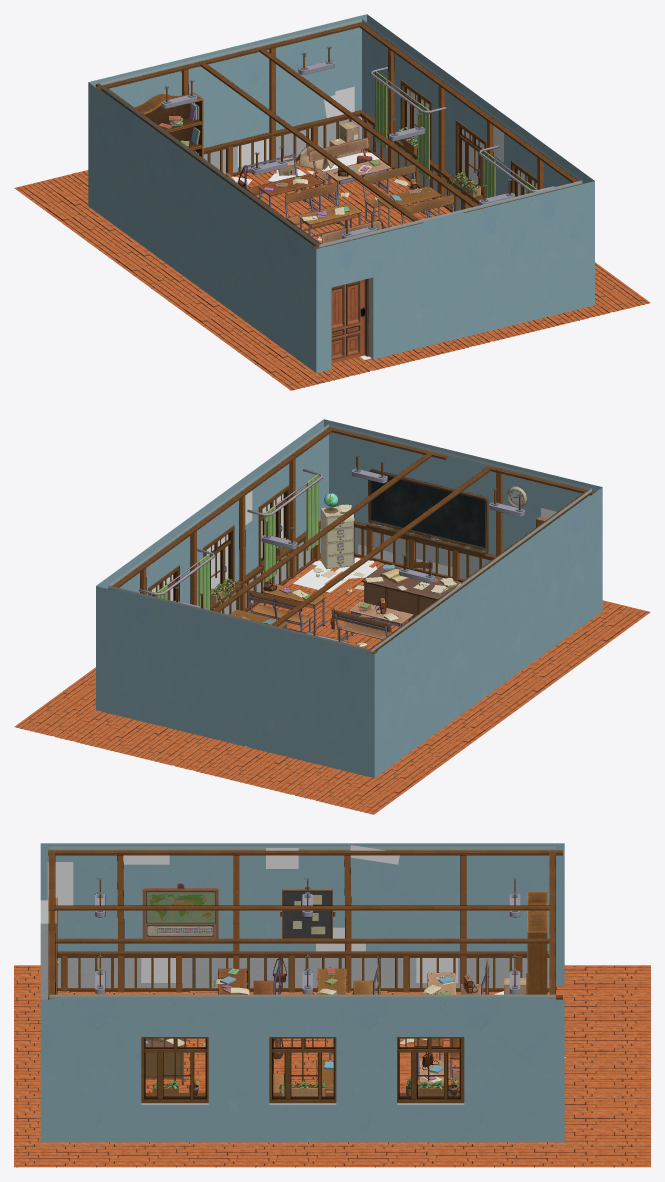
Rendered from classroom.glb.
3 views of the same model, one above another, from view 1: azimuth 30°, elevation 25°; view 2: azimuth 150°, elevation 25°; view 3: azimuth 270°, elevation 25° (orthographic). The views are drawn at different scales.
Parts seen in each view (by area): view 1: Walls, Plane, Wall Parts, Door, Curtain, Winodws, Lights, Book Shelf, Desk 2, Desk 1.001, Desk 4, Decals (+6 smaller); view 2: Walls, Plane, Wall Parts, chalkboard, Curtain, Winodws, Teachers Desk, Lights, Desk 2.002, Desk 1, Locker, Decals (+2 smaller); view 3: Walls, Plane, Wall Parts, Winodws, Map, Decals, Board, Book Shelf, Lights, Cracks, Desk 4.002, Teachers Desk (+6 smaller).
Boxes of the visible parts, x1,y1,x2,y2 form: Walls: [88, 14, 594, 373]; Plane: [14, 149, 650, 390]; Wall Parts: [95, 22, 583, 248]; Door: [331, 278, 369, 363]; Curtain: [370, 66, 554, 198]; Winodws: [394, 79, 537, 204]; Lights: [161, 46, 515, 238]; Book Shelf: [134, 92, 203, 157]; Desk 2: [284, 182, 361, 237]; Desk 1.001: [309, 137, 390, 205]; Desk 4: [362, 164, 441, 228]; Decals: [183, 95, 379, 359]; Walls: [96, 419, 602, 778]; Plane: [14, 556, 650, 814]; Wall Parts: [108, 427, 595, 653]; chalkboard: [366, 469, 488, 555]; Curtain: [139, 469, 322, 610]; Winodws: [148, 485, 294, 609]; Teachers Desk: [361, 563, 461, 620]; Lights: [174, 455, 525, 642]; Desk 2.002: [248, 583, 325, 633]; Desk 1: [331, 601, 413, 640]; Locker: [320, 506, 354, 569]; Decals: [245, 544, 460, 746]; Walls: [40, 843, 564, 1142]; Plane: [14, 965, 650, 1167]; Wall Parts: [48, 849, 562, 999]; Winodws: [141, 1037, 464, 1103]; Map: [142, 883, 218, 938]; Decals: [123, 845, 565, 1057]; Board: [280, 887, 335, 938]; Book Shelf: [525, 892, 547, 994]; Lights: [95, 877, 520, 994]; Cracks: [47, 862, 344, 951]; Desk 4.002: [317, 955, 380, 994]; Teachers Desk: [145, 1038, 186, 1084].
Bounding box in the file's own units: 57.6 × 19.66 × 76.8.
Materials: 41 (37 with a texture image).
